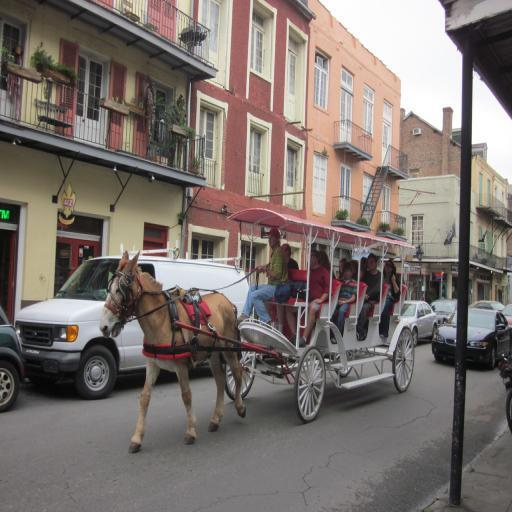horse: (98, 250, 254, 456)
